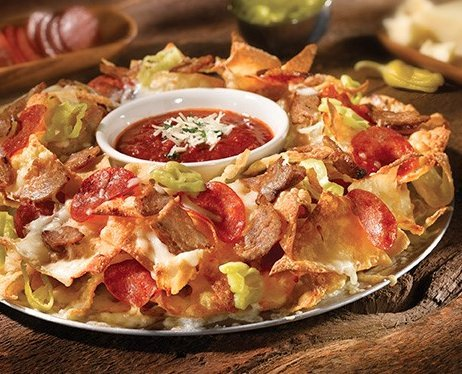pizza: (225, 1, 333, 62)
sushi: (95, 87, 290, 183), (1, 5, 139, 98), (226, 1, 328, 61)
